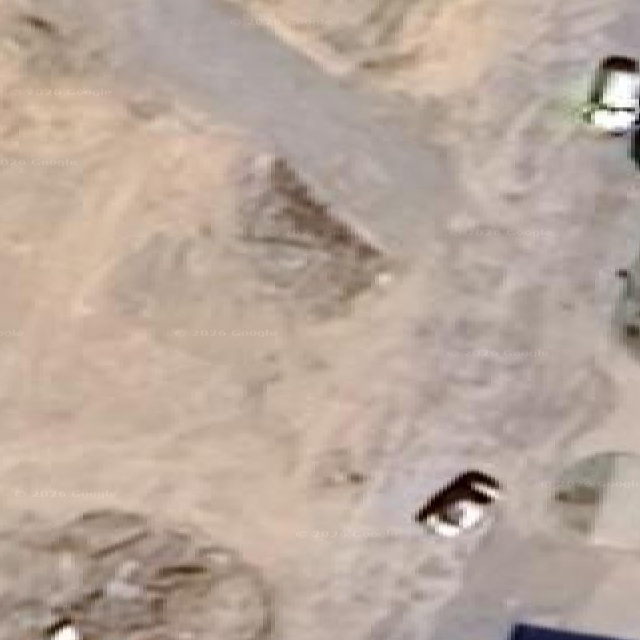car: (415, 470, 499, 536), (584, 55, 639, 134), (615, 259, 639, 340)
